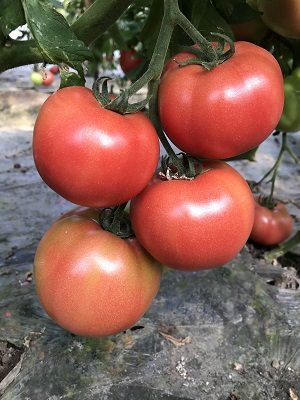mature-tomato: (35, 212, 166, 334), (34, 87, 160, 209), (159, 41, 284, 162), (132, 161, 254, 267), (251, 196, 290, 242)
